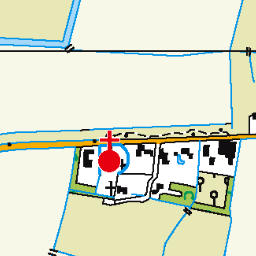church: (94, 128, 125, 175)
